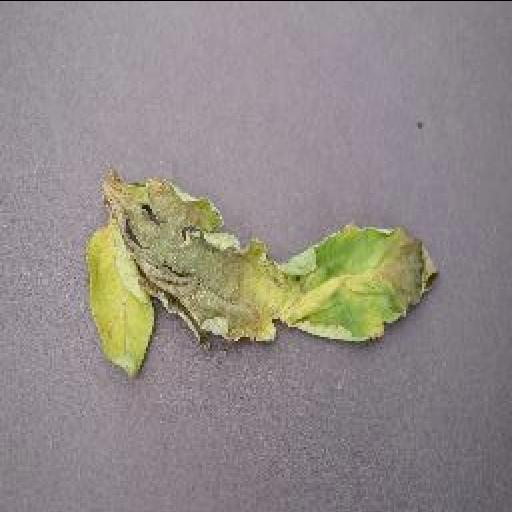disease_tomato: (78, 171, 440, 377)
